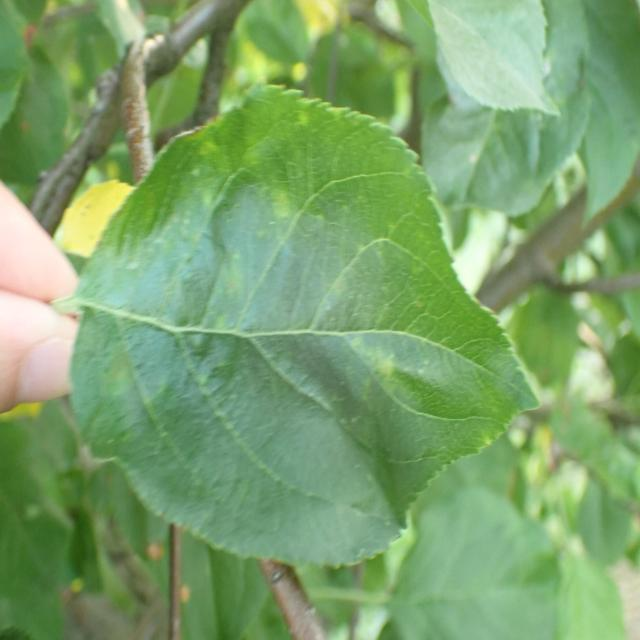scab: (94, 165, 451, 564)
